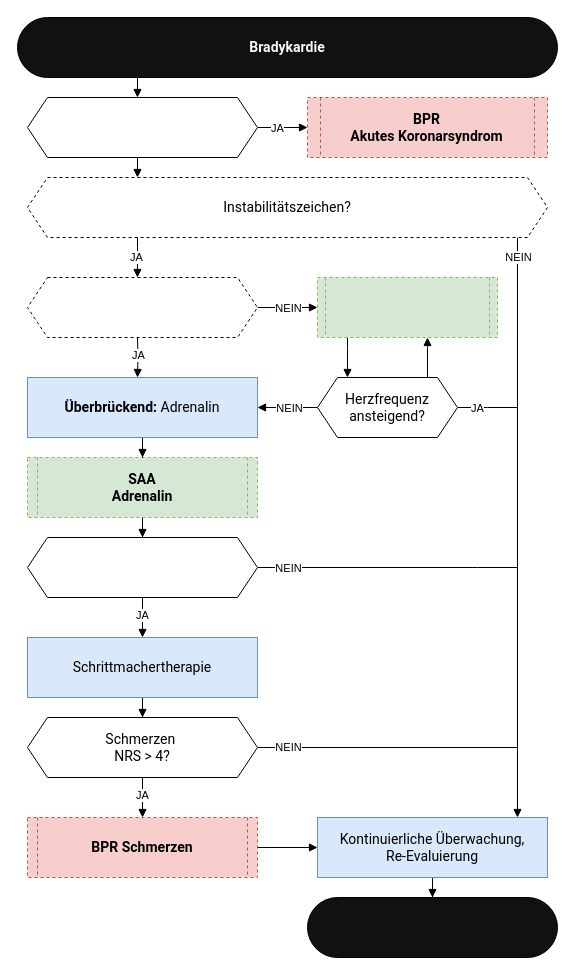
Some shapes in this 575 by 975 pixel diagram are drawn without their labels. The box of each missing label's shape, as (x1, y1, x2, y2) in pixels:
Akutes Koronarsyndrom?: (26, 96, 258, 158)
Asystoliegefahr?: (26, 276, 258, 338)
Bewusstlos?: (26, 536, 258, 598)
SAA Atropin: (316, 276, 498, 338)
Transport: (306, 896, 558, 958)
